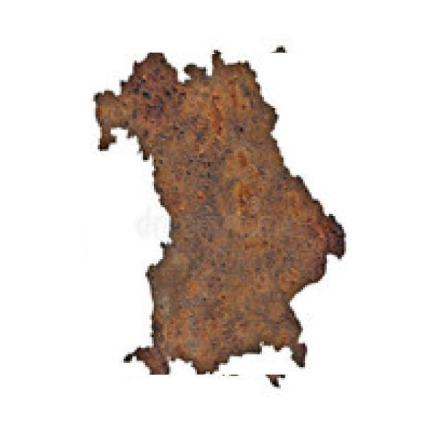karat: (94, 51, 344, 373)
